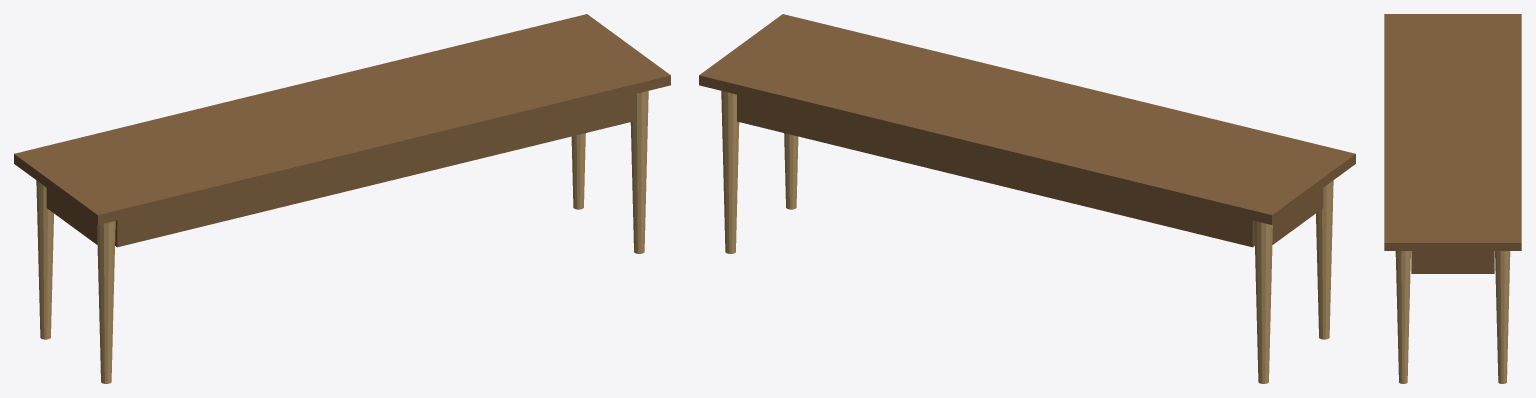
File: ATL-DBN-std.glb
3 views of the same model, side by side, from view 1: azimuth 30°, elevation 25°; view 2: azimuth 150°, elevation 25°; view 3: azimuth 270°, elevation 25° (orthographic). The views are drawn at different scales.
Visible parts, largest first — view 1: top:pbr, apron-f:pbr, leg-fl:pbr, leg-fr:pbr, leg-bl:pbr, apron-l:pbr, leg-br:pbr; view 2: top:pbr, apron-b:pbr, leg-bl:pbr, leg-br:pbr, leg-fl:pbr, apron-l:pbr, leg-fr:pbr; view 3: top:pbr, apron-r:pbr, leg-fr:pbr, leg-br:pbr.
Part boxes in pixels (bbox=[...]): top:pbr: bbox=[14, 14, 670, 224]; apron-f:pbr: bbox=[115, 94, 632, 247]; leg-fl:pbr: bbox=[97, 221, 115, 383]; leg-fr:pbr: bbox=[630, 91, 648, 253]; leg-bl:pbr: bbox=[36, 180, 53, 339]; apron-l:pbr: bbox=[46, 188, 97, 244]; leg-br:pbr: bbox=[571, 133, 585, 209]; top:pbr: bbox=[699, 14, 1355, 224]; apron-b:pbr: bbox=[737, 94, 1254, 247]; leg-bl:pbr: bbox=[1254, 221, 1272, 383]; leg-br:pbr: bbox=[721, 91, 739, 253]; leg-fl:pbr: bbox=[1316, 180, 1333, 339]; apron-l:pbr: bbox=[1272, 188, 1323, 244]; leg-fr:pbr: bbox=[784, 133, 798, 209]; top:pbr: bbox=[1384, 14, 1521, 250]; apron-r:pbr: bbox=[1411, 251, 1494, 273]; leg-fr:pbr: bbox=[1395, 251, 1410, 383]; leg-br:pbr: bbox=[1495, 251, 1510, 383].
Size of the model in its own units: 1.5 by 0.45 by 0.38.
